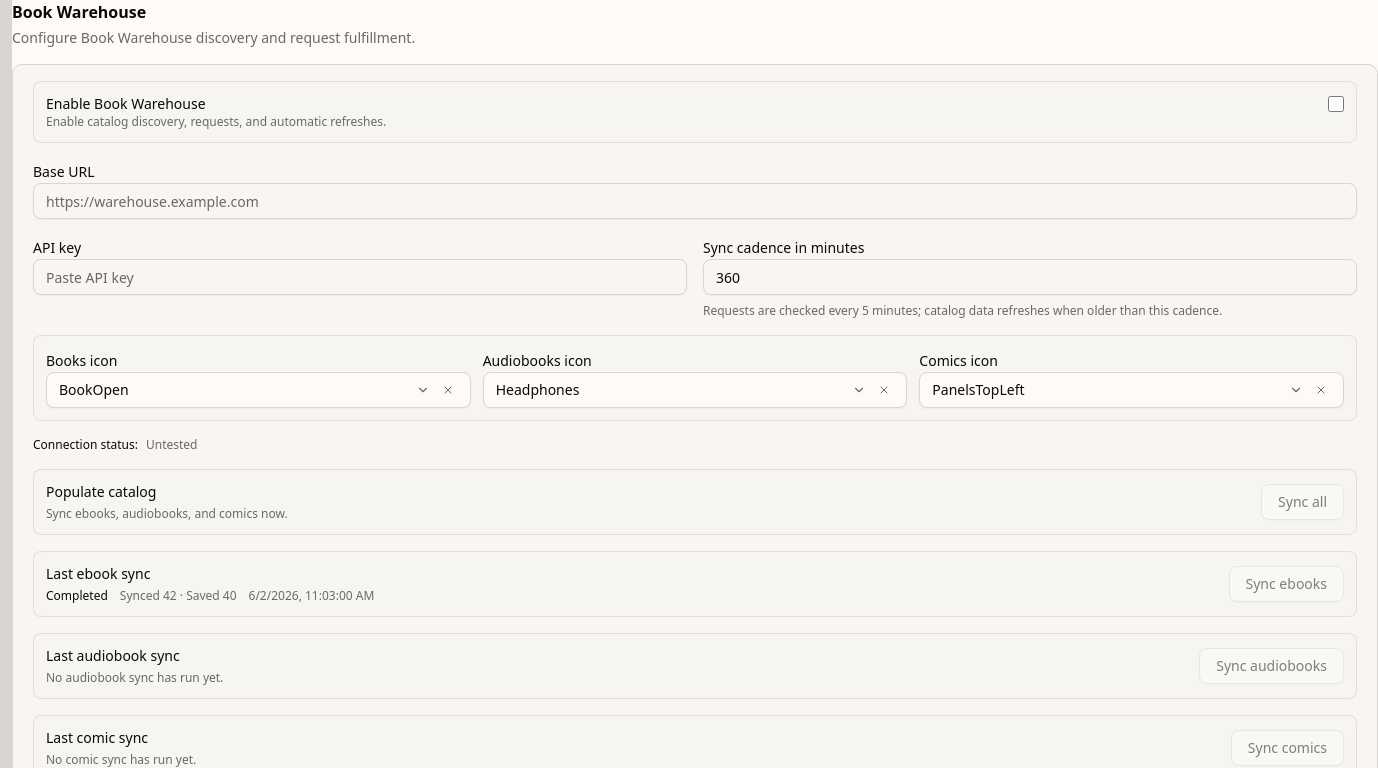
WarehouseAdminSettings › keeps ebook sync disabled when enable is toggled locally until save persists it
Check: the button "Sync ebooks" is disabled, box [1228, 566, 1344, 602]
Step 1. Click the checkbox → (1336, 104), box [1328, 96, 1344, 112]
(page scrolled)
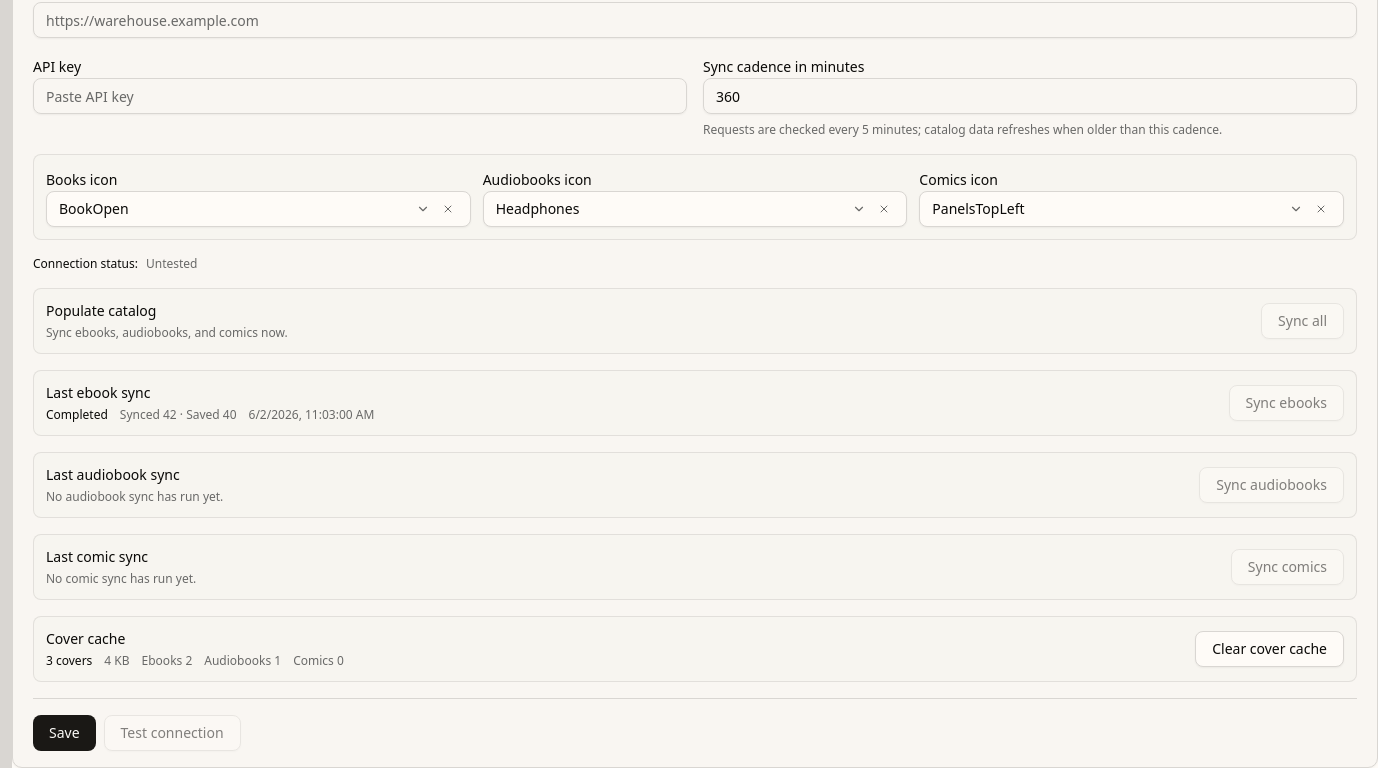
Check: the button "Sync ebooks" is disabled, box [1228, 385, 1344, 421]
Step 2. Click the button "Save" → (64, 733), box [33, 715, 96, 751]
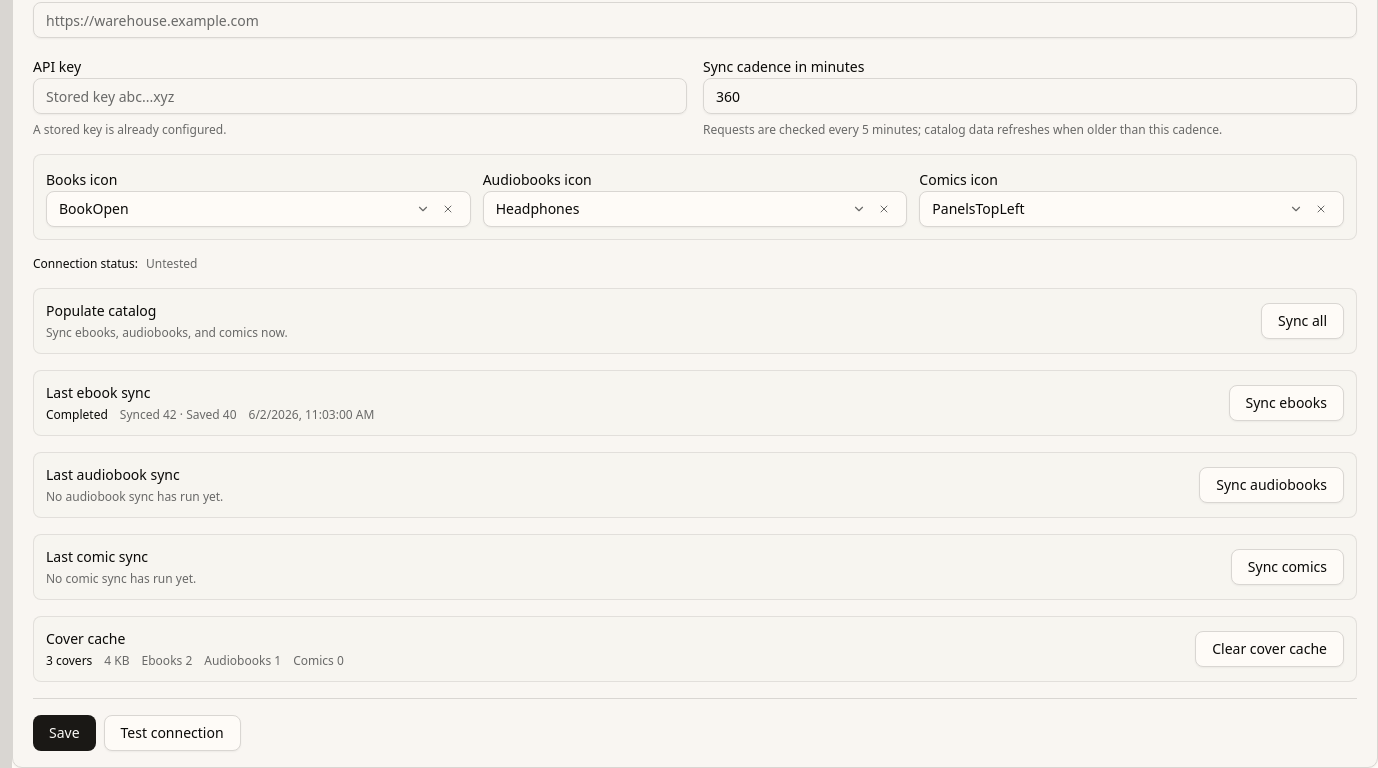
Check: the button "Sync ebooks" is enabled, box [1228, 385, 1344, 421]
Check: the button "Sync audiobooks" is enabled, box [1199, 467, 1344, 503]
Check: the button "Sync comics" is enabled, box [1231, 549, 1344, 585]
